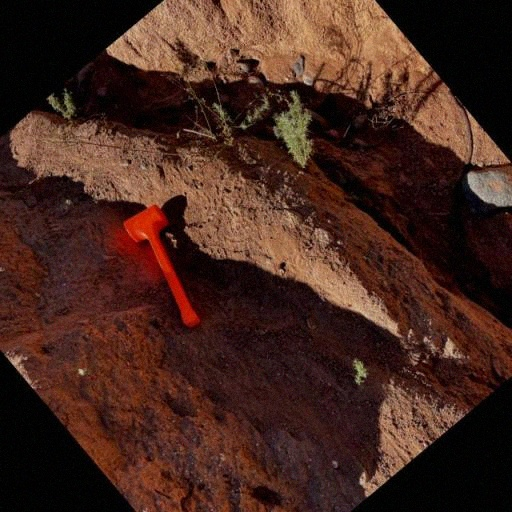mallet: (108, 196, 234, 330)
